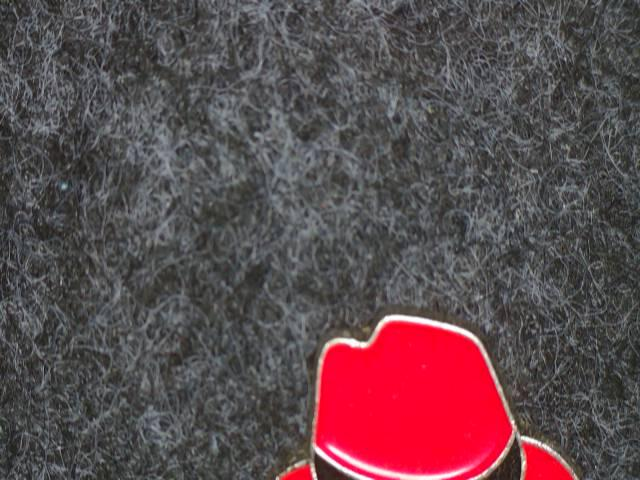Red-Hat: (227, 292, 634, 480)
